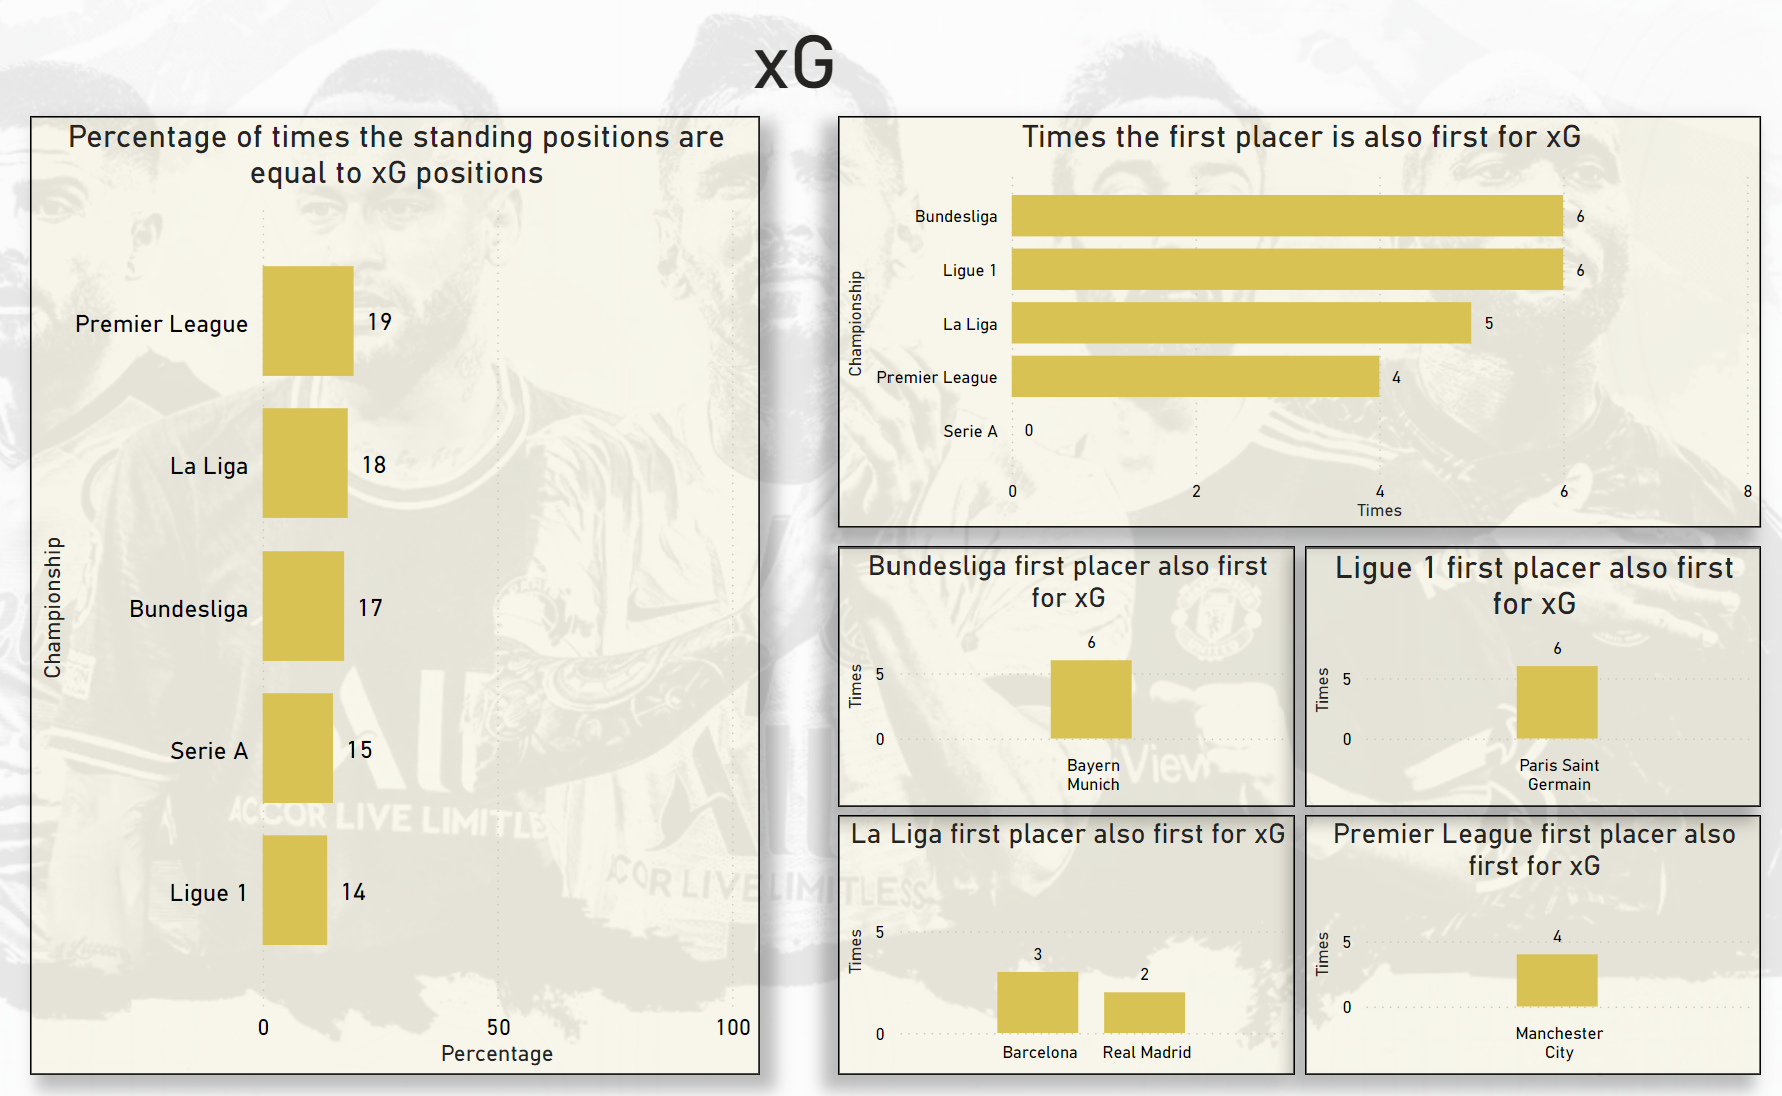

What the dashboard file says about the page in this screenshot:
{"tool":"powerbi","page":{"name":"xG","canvas":[1280,720],"ordinal":7},"visuals":[{"type":"clusteredBarChart","title":"Times the first placer is also first for xG","fields":{"Category":["Sheet1.Championship"],"Y":["Sum(Sheet1.Stand_eq_xG)"]},"box":[667,83.5,592.4,264.7],"z":0},{"type":"textbox","box":[606.6,15.4,93.8,68.1],"z":1000},{"type":"clusteredBarChart","title":"Percentage of times the standing positions are equal to xG positions","fields":{"Category":["Sheet1.Championship"],"Y":["Sheet1.sumStand_xg"]},"box":[147.8,83.5,469.1,615.6],"z":2000},{"type":"clusteredColumnChart","title":"Premier League first placer also first for xG","fields":{"Y":["Sum(Sheet1.Stand_eq_xG)"],"Category":["Sheet1.Teams"]},"box":[966.4,532,293,167.1],"z":3000},{"type":"clusteredColumnChart","title":"Bundesliga first placer also first for xG","fields":{"Category":["Sheet1.Teams"],"Y":["Sum(Sheet1.Stand_eq_xG)"]},"box":[667,359.8,293,167.1],"z":4000},{"type":"clusteredColumnChart","title":"La Liga first placer also first for xG","fields":{"Category":["Sheet1.Teams"],"Y":["Sum(Sheet1.Stand_eq_xG)"]},"box":[667,532,293,167.1],"z":5000},{"type":"clusteredColumnChart","title":"Ligue 1 first placer also first for xG","fields":{"Category":["Sheet1.Teams"],"Y":["Sum(Sheet1.Stand_eq_xG)"]},"box":[966.4,359.8,293,167.1],"z":6000},{"type":"actionButton","box":[21.8,156.8,91.2,47.6],"z":7000},{"type":"actionButton","box":[21.8,210.8,91.2,47.6],"z":8000},{"type":"actionButton","box":[21.8,263.5,91.2,47.6],"z":9000},{"type":"actionButton","box":[21.8,316.1,91.2,47.6],"z":10000},{"type":"actionButton","box":[21.8,368.8,91.2,47.6],"z":11000},{"type":"textbox","box":[1.3,106.7,134.9,56.5],"z":12000},{"type":"shape","box":[0,99,127.2,14.1],"z":13000},{"type":"shape","box":[113.1,100.2,16.7,331.6],"z":14000},{"type":"shape","box":[0,416.4,127.2,15.4],"z":15000},{"type":"actionButton","box":[21.8,487.1,91.2,47.6],"z":16000},{"type":"actionButton","box":[21.8,613,91.2,47.6],"z":17000},{"type":"textbox","box":[0,443.4,134.9,56.5],"z":18000},{"type":"shape","box":[0,435.7,127.2,15.4],"z":19000},{"type":"shape","box":[113.1,436.9,18,241.6],"z":20000},{"type":"shape","box":[0,654.1,127.2,34.7],"z":21000},{"type":"actionButton","box":[0,0,168.4,45],"z":22000},{"type":"actionButton","box":[21.8,551.3,91.2,47.6],"z":23000}]}

Visuals, with their boxes on the page's 1280x720 design canvas (x1, y1, x2, y2). These are canvas units, not pixel positions in the 1782x1096 screenshot, which may show the page scaled, cropped or inside an application window:
"Times the first placer is also first for xG" clusteredBarChart: left=667, top=84, right=1259, bottom=348
textbox: left=607, top=15, right=700, bottom=84
"Percentage of times the standing positions are equal to xG positions" clusteredBarChart: left=148, top=84, right=617, bottom=699
"Premier League first placer also first for xG" clusteredColumnChart: left=966, top=532, right=1259, bottom=699
"Bundesliga first placer also first for xG" clusteredColumnChart: left=667, top=360, right=960, bottom=527
"La Liga first placer also first for xG" clusteredColumnChart: left=667, top=532, right=960, bottom=699
"Ligue 1 first placer also first for xG" clusteredColumnChart: left=966, top=360, right=1259, bottom=527
actionButton: left=22, top=157, right=113, bottom=204
actionButton: left=22, top=211, right=113, bottom=258
actionButton: left=22, top=264, right=113, bottom=311
actionButton: left=22, top=316, right=113, bottom=364
actionButton: left=22, top=369, right=113, bottom=416
textbox: left=1, top=107, right=136, bottom=163
shape: left=0, top=99, right=127, bottom=113
shape: left=113, top=100, right=130, bottom=432
shape: left=0, top=416, right=127, bottom=432
actionButton: left=22, top=487, right=113, bottom=535
actionButton: left=22, top=613, right=113, bottom=661
textbox: left=0, top=443, right=135, bottom=500
shape: left=0, top=436, right=127, bottom=451
shape: left=113, top=437, right=131, bottom=678
shape: left=0, top=654, right=127, bottom=689
actionButton: left=0, top=0, right=168, bottom=45
actionButton: left=22, top=551, right=113, bottom=599
